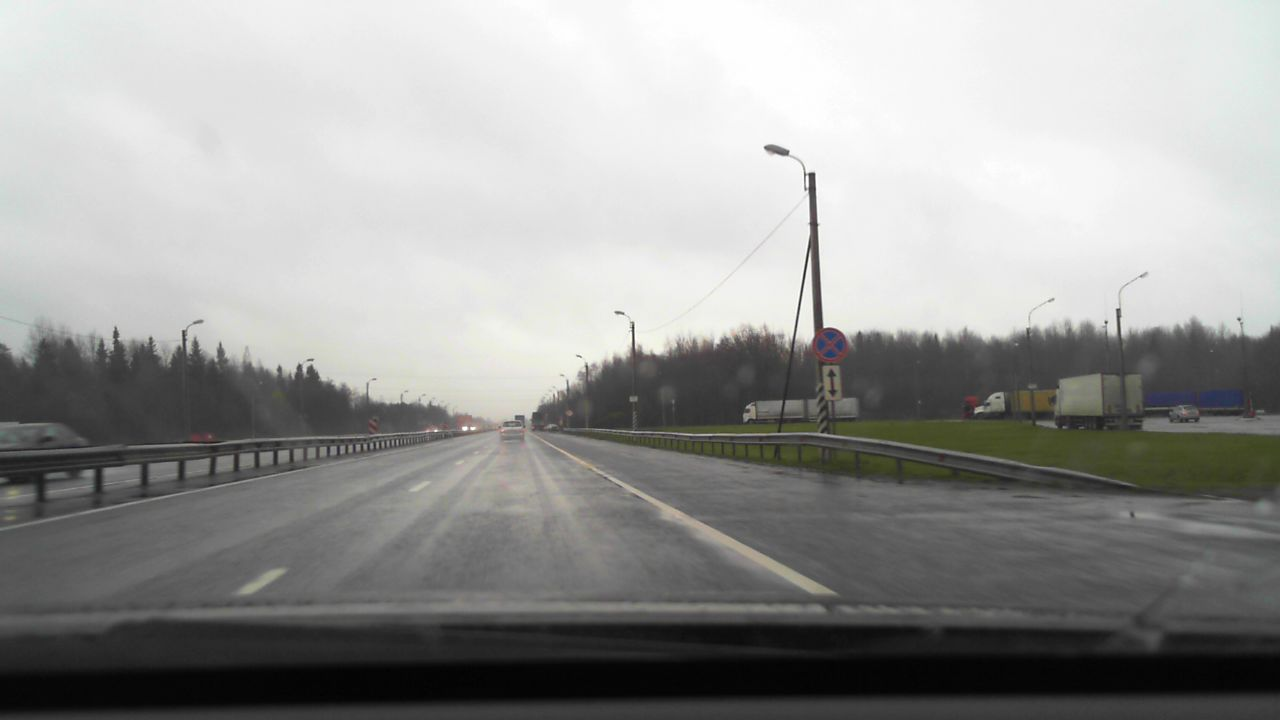No Parking: (812, 328, 848, 363)
